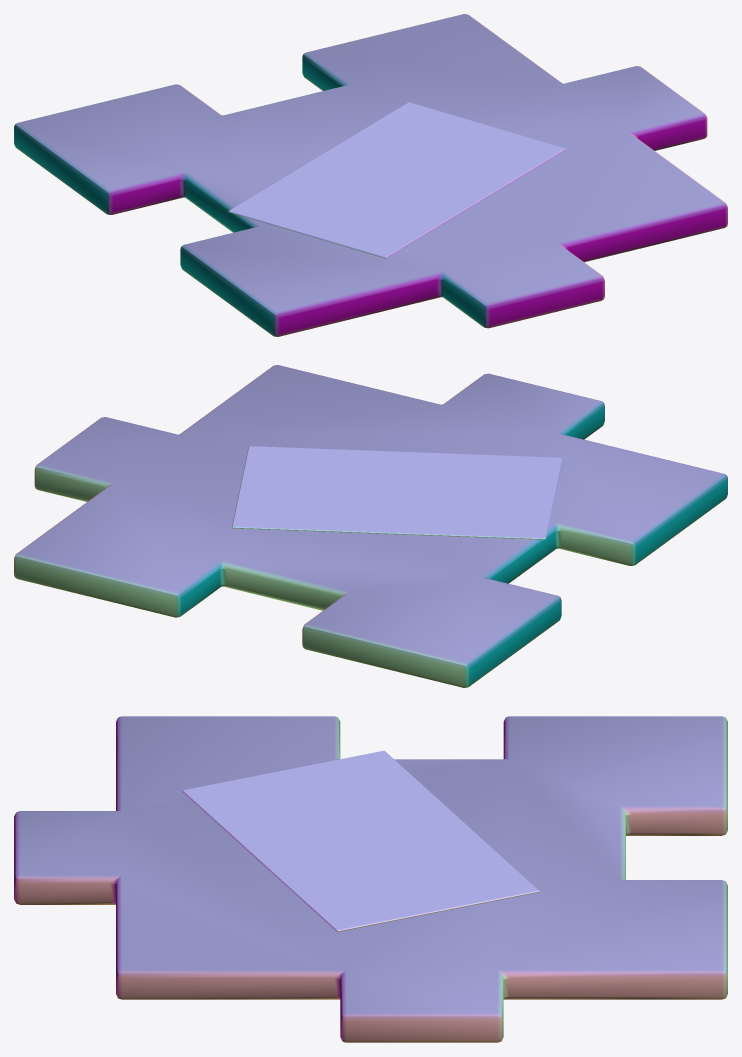
The model's file is env_deco_puzzle.glb.
3 renders of one model, top to bottom at view 1: azimuth 30°, elevation 25°; view 2: azimuth 150°, elevation 25°; view 3: azimuth 270°, elevation 25°, orthographic. The views are drawn at different scales.
Parts seen in each view (by area): view 1: env_deco_puzzle_mesh; view 2: env_deco_puzzle_mesh; view 3: env_deco_puzzle_mesh.
Boxes of the visible parts, x1,y1,x2,y2 form: env_deco_puzzle_mesh: (14,14,727,336); env_deco_puzzle_mesh: (14,365,727,687); env_deco_puzzle_mesh: (14,716,727,1042).
Bounding box in the file's own units: 0.35 × 0.0175 × 0.35.
